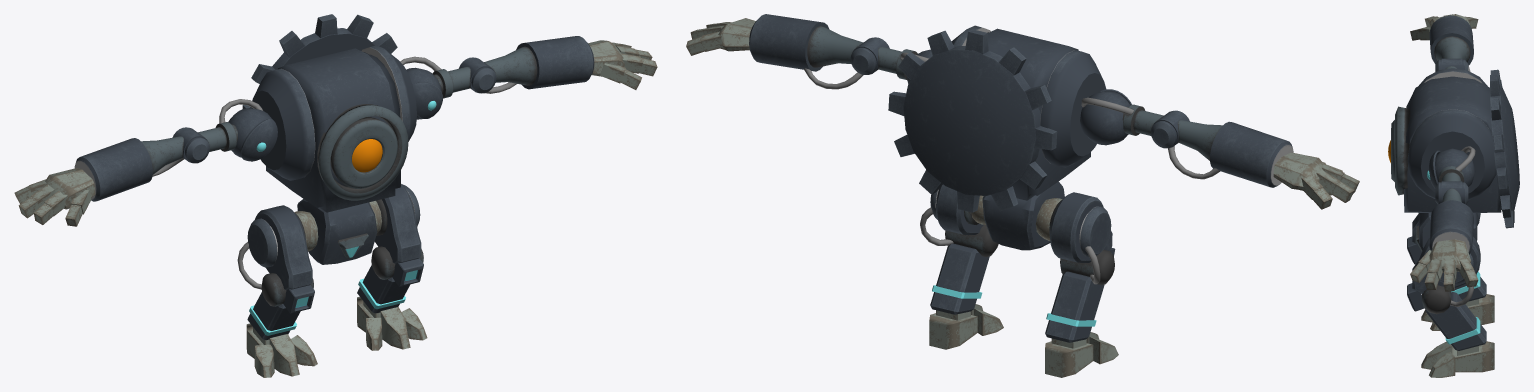
File: BOSS.gltf
3 views of the same model, side by side, from view 1: azimuth 30°, elevation 25°; view 2: azimuth 150°, elevation 25°; view 3: azimuth 270°, elevation 25° (orthographic). The views are drawn at different scales.
Visible parts, largest first — view 1: face, R_faceside, L_ude1, R_ude, R_momo, body, eye2, eye, L_momo, R_shoulder, gear_parts, gear (+18 smaller); view 2: gear, gear_parts, R_faceside, R_ude, L_ude1, face, R_momo, L_reg2, R_reg, body, R_shoulder, L_momo (+11 smaller); view 3: face, L_faceside, gear, L_ude1, L_reg2, R_ude, gear_parts, eye2, L_shoulder4, L_kakato, L_hand, L_momo (+26 smaller).
Part boxes in pixels (bbox=[...]): face: bbox=[266, 48, 400, 212]; R_faceside: bbox=[250, 68, 315, 180]; L_ude1: bbox=[484, 36, 594, 89]; R_ude: bbox=[74, 136, 183, 201]; R_momo: bbox=[247, 205, 312, 290]; body: bbox=[297, 199, 377, 264]; eye2: bbox=[317, 104, 408, 200]; eye: bbox=[330, 117, 397, 188]; L_momo: bbox=[374, 184, 421, 263]; R_shoulder: bbox=[228, 108, 277, 161]; gear_parts: bbox=[242, 14, 397, 109]; gear: bbox=[272, 28, 384, 69]; gear: bbox=[903, 45, 1040, 195]; gear_parts: bbox=[888, 29, 1057, 212]; R_faceside: bbox=[1040, 50, 1106, 167]; R_ude: bbox=[1177, 120, 1293, 187]; L_ude1: bbox=[749, 14, 863, 71]; face: bbox=[987, 28, 1090, 200]; R_momo: bbox=[1049, 192, 1112, 262]; L_reg2: bbox=[930, 243, 989, 314]; R_reg: bbox=[1045, 271, 1104, 342]; body: bbox=[982, 181, 1064, 250]; R_shoulder: bbox=[1080, 89, 1131, 145]; L_momo: bbox=[930, 184, 983, 235]; face: bbox=[1403, 76, 1501, 212]; L_faceside: bbox=[1407, 109, 1496, 199]; gear: bbox=[1489, 85, 1519, 211]; L_ude1: bbox=[1429, 188, 1473, 254]; L_reg2: bbox=[1425, 292, 1486, 350]; R_ude: bbox=[1429, 15, 1473, 65]; gear_parts: bbox=[1490, 69, 1514, 228]; eye2: bbox=[1395, 106, 1410, 195]; L_shoulder4: bbox=[1427, 148, 1475, 188]; L_kakato: bbox=[1452, 341, 1494, 372]; L_hand: bbox=[1429, 239, 1471, 272]; L_momo: bbox=[1412, 237, 1480, 293].
Size of the model in its own units: 9.27 by 4.37 by 1.91.
Materials: 3 (1 with a texture image).
